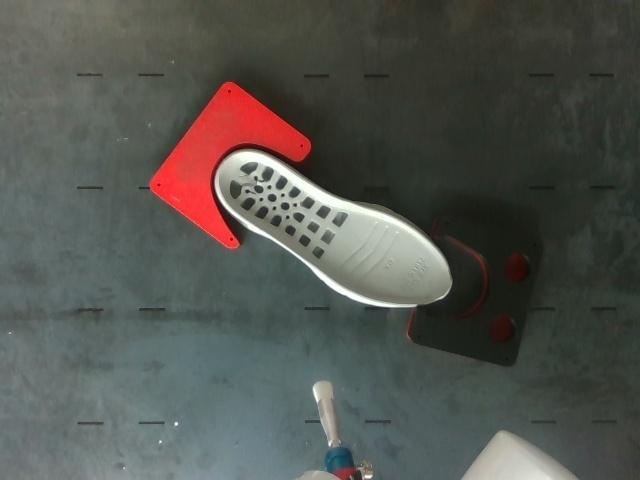shoes: (219, 153, 451, 305)
